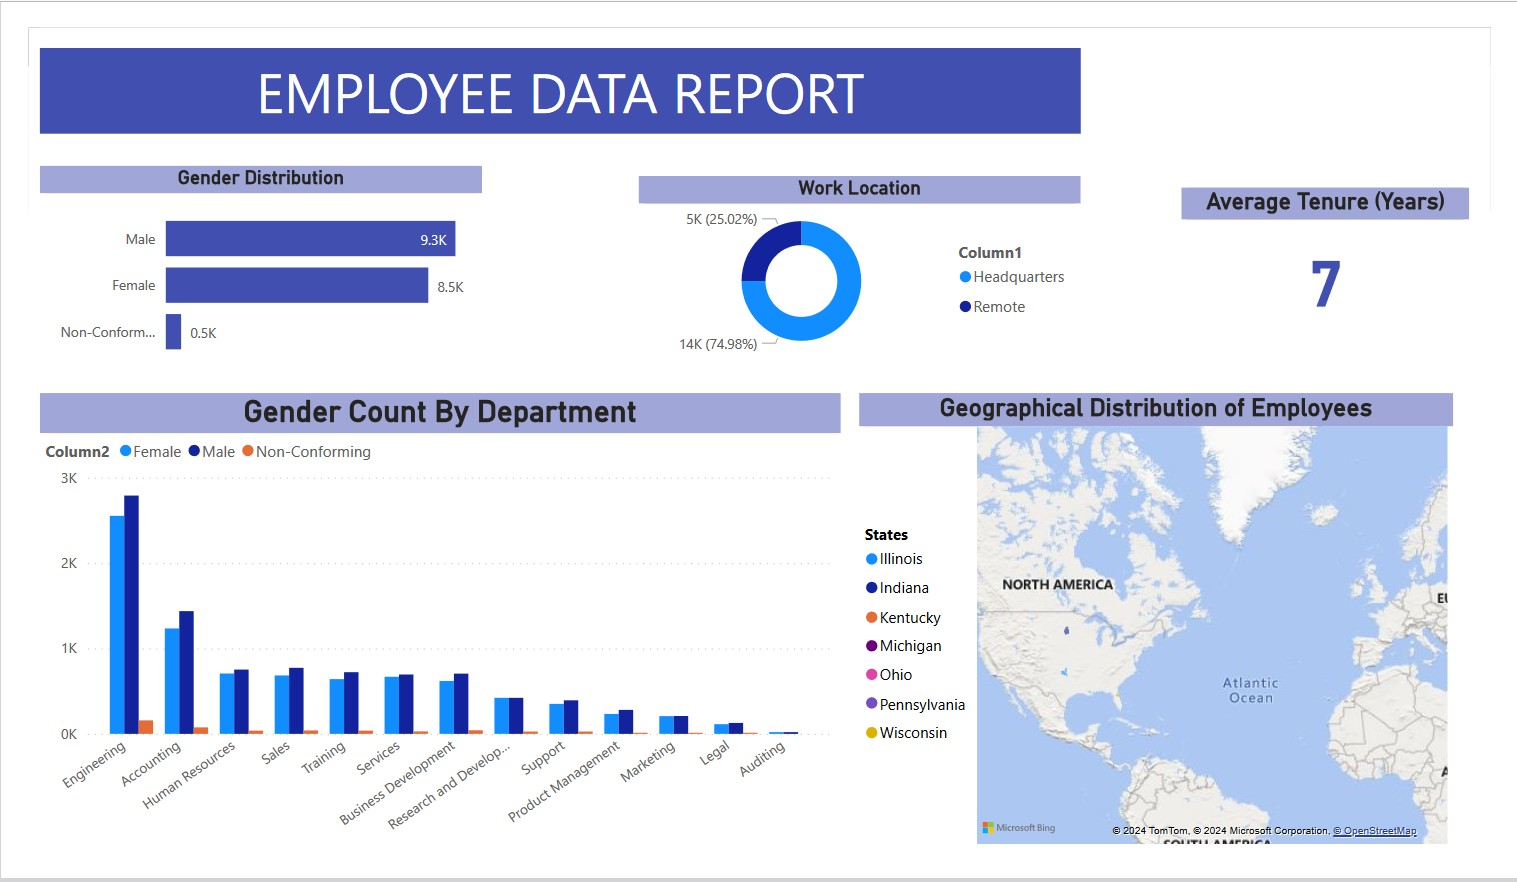

What the dashboard file says about the page in this screenshot:
{"tool":"powerbi","page":{"name":"Page 1","canvas":[1280,720],"ordinal":0},"visuals":[{"type":"textbox","box":[10,0,280,280],"z":0},{"type":"textbox","box":[9.6,17.8,911.2,75.5],"z":1000},{"type":"card","title":"Average Tenure (Years)","fields":{"Values":["Sum(average length of employment in the company.Column1)"]},"box":[1008.6,140,252.5,131.7],"z":2000},{"type":"barChart","title":"Gender Distribution","fields":{"Category":["gender breakdown in the company.Column1"],"Y":["Sum(gender breakdown in the company.Column2)"]},"box":[9.6,120.8,387,183.9],"z":3000},{"type":"clusteredColumnChart","title":"Gender Count By Department","fields":{"Category":["gender vary across departments (2).Column1"],"Y":["Sum(gender vary across departments (2).Column3)"],"Series":["gender vary across departments (2).Column2"]},"box":[9.6,319.7,701.2,400.7],"z":4000},{"type":"donutChart","title":"Work Location","fields":{"Category":["location wise ( hq or remote).Column1"],"Y":["Sum(location wise ( hq or remote).Column2)"]},"box":[533.8,130.4,387,164.7],"z":5000},{"type":"filledMap","title":"Geographical Distribution of Employees","fields":{"Series":["distribution of employees across different states.Column1"],"Category":["distribution of employees across different states.Column2"]},"box":[727.3,319.7,520.1,400],"z":6000}]}

Visuals, with their boxes on the page's 1280x720 design canvas (x1, y1, x2, y2). These are canvas units, not pixel positions in the 1517x882 screenshot, which may show the page scaled, cropped or inside an application window:
textbox: bbox=(10, 0, 290, 280)
textbox: bbox=(10, 18, 921, 93)
"Average Tenure (Years)" card: bbox=(1009, 140, 1261, 272)
"Gender Distribution" barChart: bbox=(10, 121, 397, 305)
"Gender Count By Department" clusteredColumnChart: bbox=(10, 320, 711, 720)
"Work Location" donutChart: bbox=(534, 130, 921, 295)
"Geographical Distribution of Employees" filledMap: bbox=(727, 320, 1247, 720)
